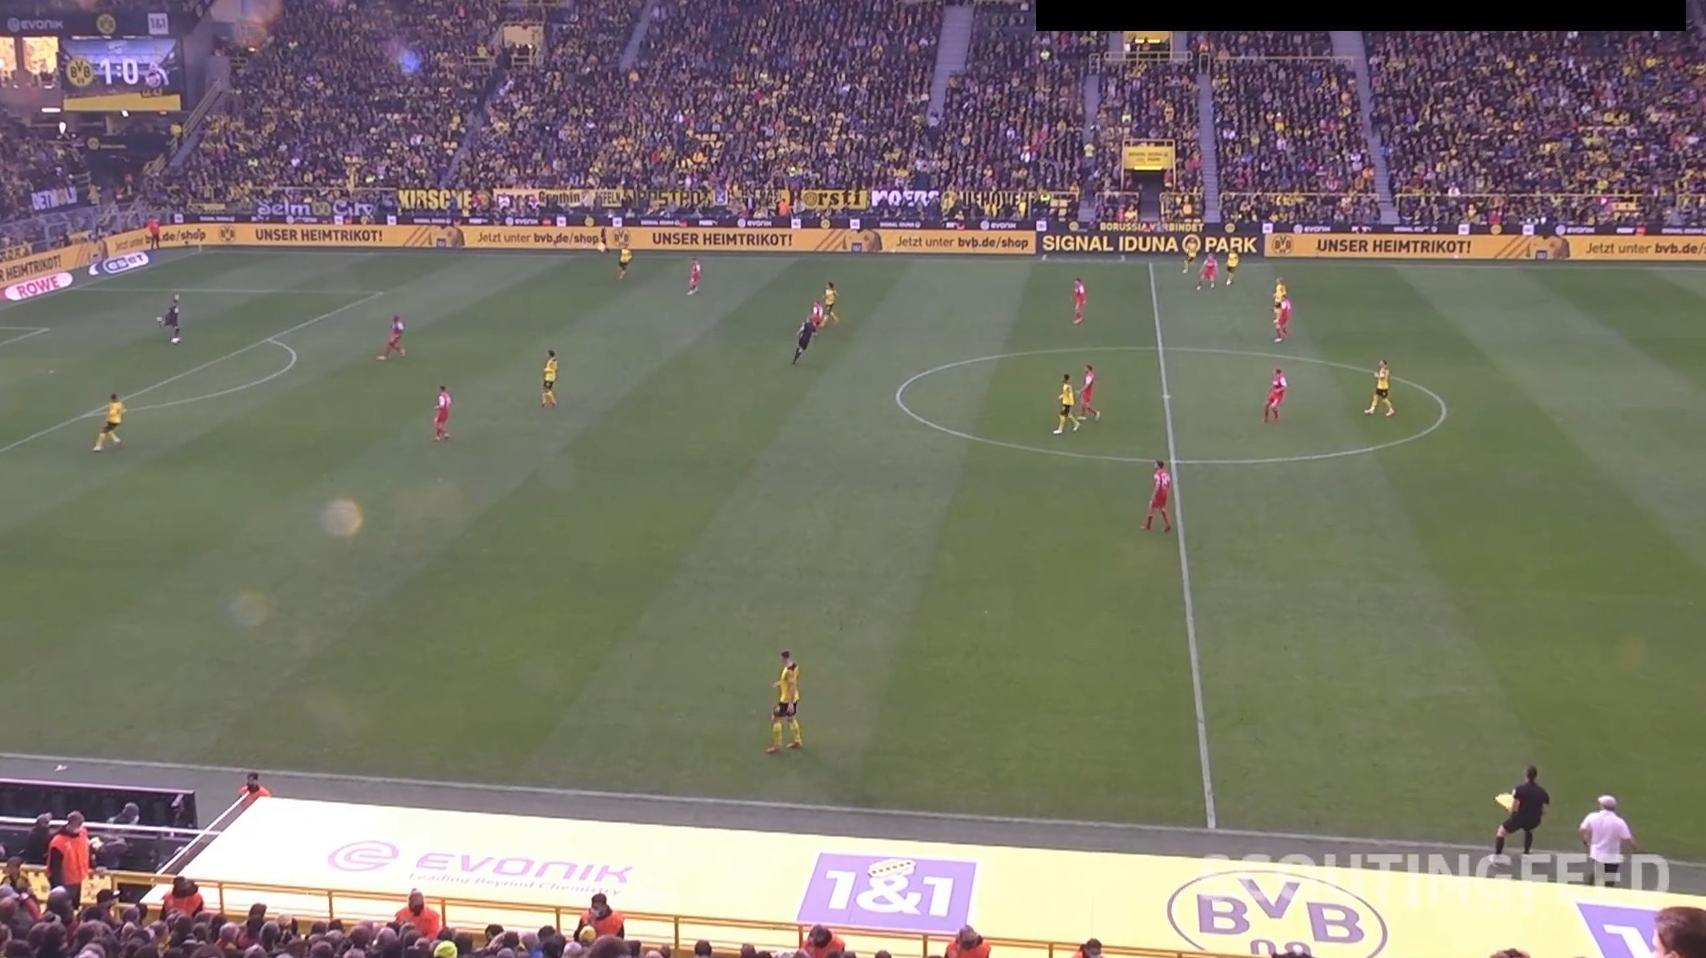ball: (170, 335, 180, 345)
